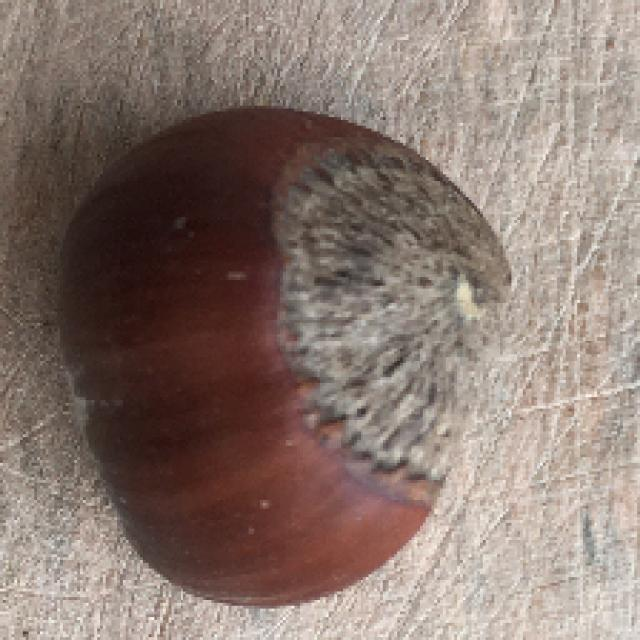DamagedHazelnut: (47, 110, 508, 599)
